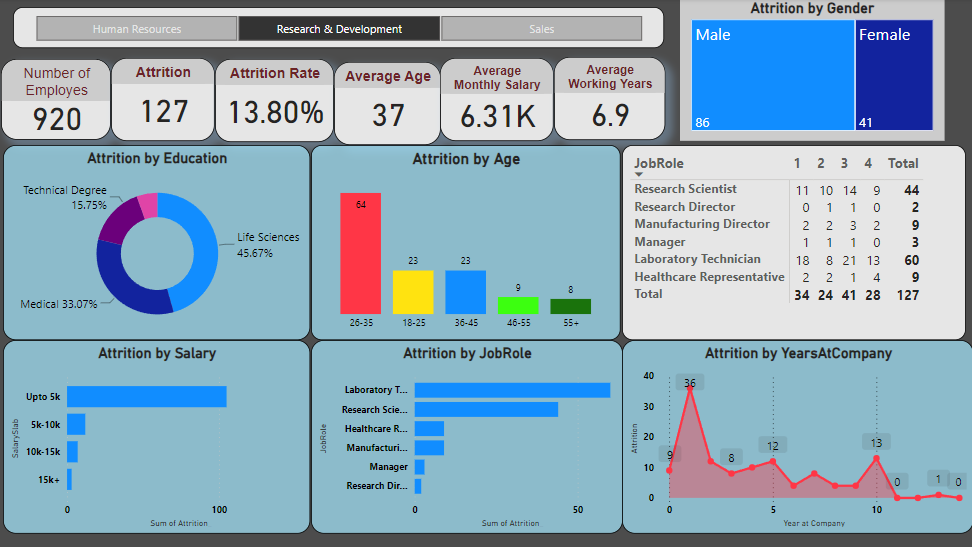

The page's visual inventory and layout, read from the dashboard file:
{"tool":"powerbi","page":{"name":"Page 1","canvas":[1280,720],"ordinal":0},"visuals":[{"type":"card","title":"Number of Employes","fields":{"Values":["Sum(HR_Analytics_.EmployeeCount)"]},"box":[4.3,78.6,144.3,105.7],"z":0},{"type":"card","title":"Attrition","fields":{"Values":["Sum(HR_Analytics_.Attrition_)"]},"box":[148.6,77.1,135.7,108.6],"z":1000},{"type":"card","title":"Attrition Rate","fields":{"Values":["HR_Analytics_.Attrition_rate"]},"box":[284.3,78.6,155.7,108.6],"z":2000},{"type":"card","title":"Average Age","fields":{"Values":["Avg(HR_Analytics_.Age)"]},"box":[440,82.9,140,108.6],"z":3000},{"type":"card","title":"Average Monthly Salary","fields":{"Values":["Avg(HR_Analytics_.MonthlyIncome)"]},"box":[580,77.1,148.6,108.6],"z":4000},{"type":"card","title":"Average Working Years","fields":{"Values":["Avg(HR_Analytics_.YearsAtCompany)"]},"box":[728.6,75.7,145.7,108.6],"z":5000},{"type":"donutChart","title":"Attrition by Education","fields":{"Y":["Sum(HR_Analytics_.Attrition_)"],"Category":["HR_Analytics_.EducationField"]},"box":[7.1,191.4,402.9,255.7],"z":6000},{"type":"columnChart","title":"Attrition by Age","fields":{"Category":["HR_Analytics_.AgeGroup"],"Y":["Sum(HR_Analytics_.Attrition_)"]},"box":[410,191.4,405.7,255.7],"z":7000},{"type":"slicer","fields":{"Values":["HR_Analytics_.Department"]},"box":[20,10,854.3,54.3],"z":8000},{"type":"pivotTable","title":"Attrition by Education","fields":{"Values":["Sum(HR_Analytics_.Attrition_)"],"Rows":["HR_Analytics_.JobRole"],"Columns":["HR_Analytics_.JobSatisfaction"]},"box":[818.6,191.4,451.4,255.7],"z":9000},{"type":"barChart","title":"Attrition by Salary","fields":{"Y":["Sum(HR_Analytics_.Attrition_)"],"Category":["HR_Analytics_.SalarySlab"]},"box":[7.1,447.1,402.9,254.3],"z":10000},{"type":"barChart","title":"Attrition by JobRole","fields":{"Y":["Sum(HR_Analytics_.Attrition_)"],"Category":["HR_Analytics_.JobRole"]},"box":[410,447.1,408.6,254.3],"z":11000},{"type":"areaChart","title":"Attrition by YearsAtCompany","fields":{"Category":["HR_Analytics_.YearsAtCompany"],"Y":["Sum(HR_Analytics_.Attrition_)"]},"box":[818.6,447.1,461.4,254.3],"z":12000},{"type":"treemap","title":"Attrition by Gender","fields":{"Group":["HR_Analytics_.Gender"],"Values":["Sum(HR_Analytics_.Attrition_)"]},"box":[894.3,0,347.1,185.7],"z":13000}]}

Visuals, with their boxes in screenshot pixels (x1, y1, x2, y2), scaled from the page's 1280x720 canvas onto the 972x547 screenshot:
"Number of Employes" card: x1=3, y1=60, x2=113, y2=140
"Attrition" card: x1=113, y1=59, x2=216, y2=141
"Attrition Rate" card: x1=216, y1=60, x2=334, y2=142
"Average Age" card: x1=334, y1=63, x2=440, y2=145
"Average Monthly Salary" card: x1=440, y1=59, x2=553, y2=141
"Average Working Years" card: x1=553, y1=58, x2=664, y2=140
"Attrition by Education" donutChart: x1=5, y1=145, x2=311, y2=340
"Attrition by Age" columnChart: x1=311, y1=145, x2=619, y2=340
slicer - HR_Analytics_.Department: x1=15, y1=8, x2=664, y2=49
"Attrition by Education" pivotTable: x1=622, y1=145, x2=964, y2=340
"Attrition by Salary" barChart: x1=5, y1=340, x2=311, y2=533
"Attrition by JobRole" barChart: x1=311, y1=340, x2=622, y2=533
"Attrition by YearsAtCompany" areaChart: x1=622, y1=340, x2=971, y2=533
"Attrition by Gender" treemap: x1=679, y1=0, x2=943, y2=141
